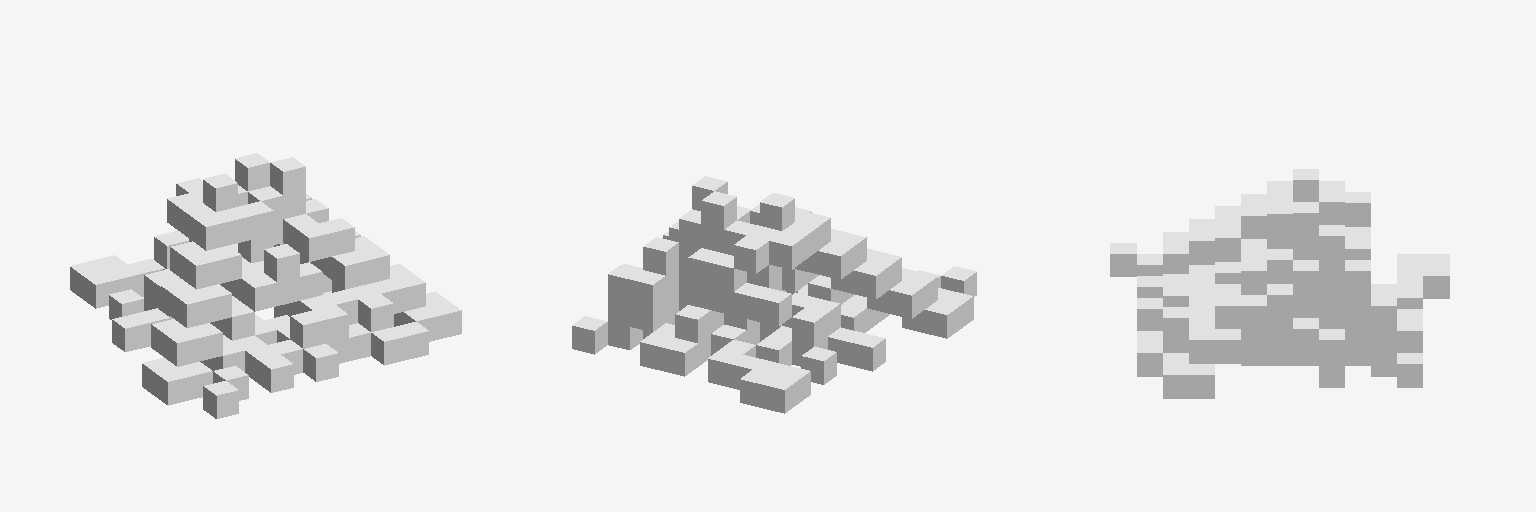
The model's file is TheEvent-0.obj.
3 views of the same model, side by side, from view 1: azimuth 30°, elevation 25°; view 2: azimuth 150°, elevation 25°; view 3: azimuth 270°, elevation 25° (orthographic).
Parts seen in each view (by area): view 1: object 1; view 2: object 1; view 3: object 1.
Boxes of the visible parts, <box> form: object 1: <box>70,153,461,418</box>; object 1: <box>572,176,976,413</box>; object 1: <box>1110,169,1449,398</box>.
Size of the model in its own units: 1.3 by 0.6 by 1.3.